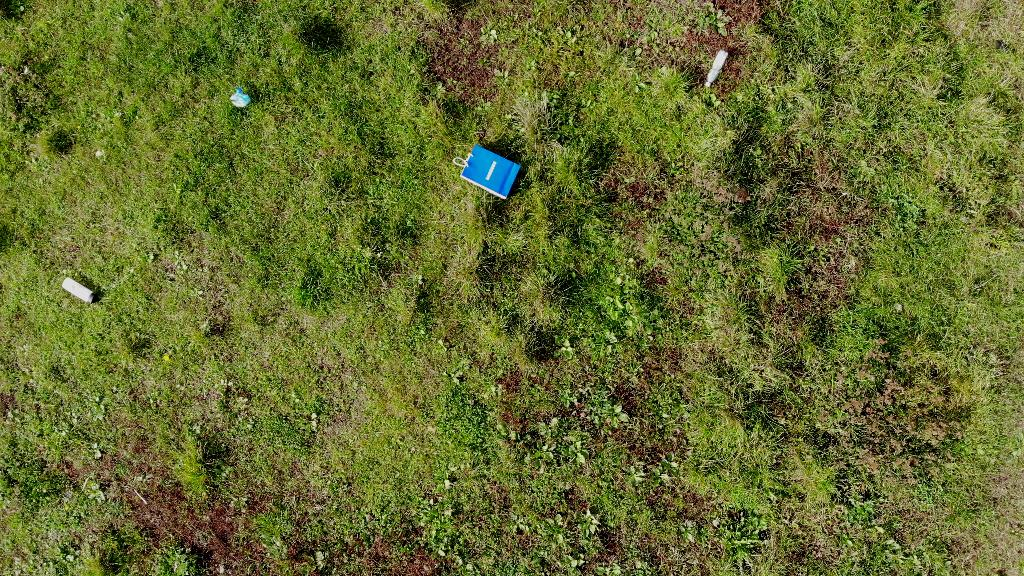garbage: (457, 143, 524, 199), (458, 143, 521, 201), (701, 47, 730, 91), (59, 278, 100, 305), (60, 277, 97, 305), (704, 49, 729, 90), (230, 88, 252, 108)
